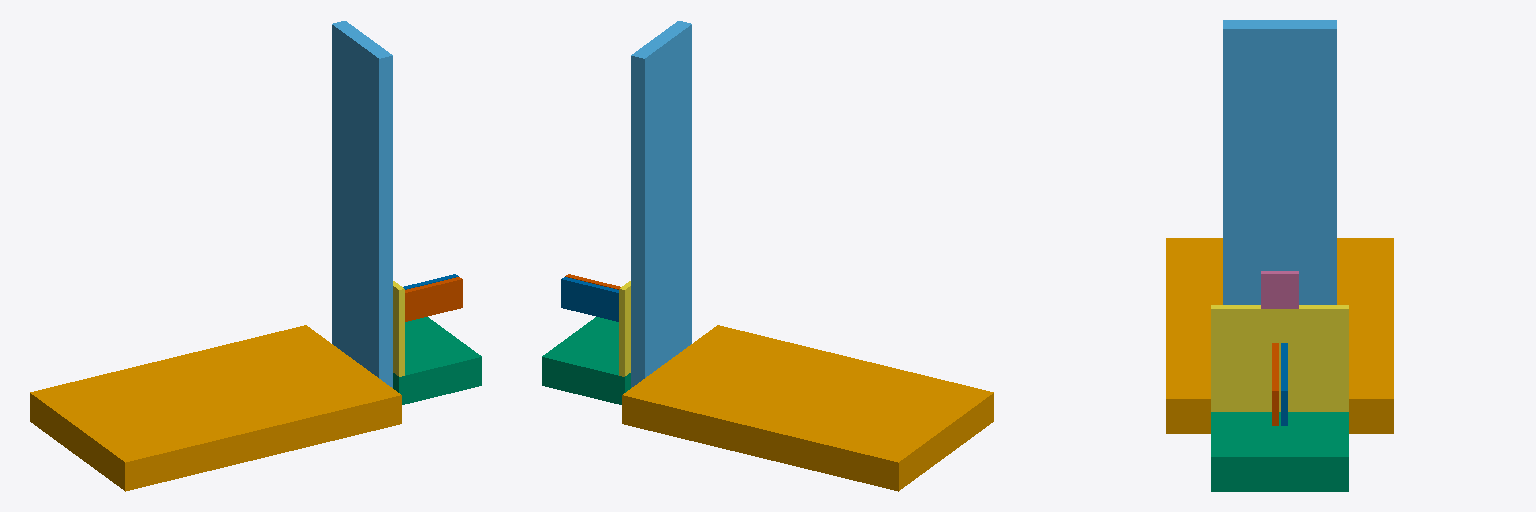
The robot description file, URDF, robot "lib_bot":
<?xml version="1.0"?>

<robot name="lib_bot">
    <gazebo>
        <plugin name="gazebo_ros_control" filename="libgazebo_ros_control.so">
            <robotNamespace>/lib_bot</robotNamespace>
        </plugin>
    </gazebo>
    
    
    <link 
    name="base_link">
        <visual>
            <origin rpy="0 0 0" xyz="0 0 0"/>
            <geometry>
               <box size="0.5 0.3 0.05"/> 
            </geometry>
        </visual>
        <collision>
            <origin xyz="0 0 0" rpy="0 0 0"/>
            <geometry>
               <box size="0.5 0.3 0.05"/> 
            </geometry>
        </collision>
        <inertial>
            <origin xyz="0 0 0" rpy="0 0 0"/>
            <mass value="18" />
            <inertia ixx="0.13874999999999998" ixy="0.0" ixz="0.0" iyy="0.37875000000000003" iyz="0.0" izz="0.51"/>
        </inertial>
    </link>
    
    <link name="tower_link">
        <visual>
            <origin rpy="0 0 0" xyz="0 0 0.275"/>
            <geometry>
                <box size="0.025 0.15 0.60"/> 
            </geometry>
        </visual>
        <collision>
            <origin xyz="0 0 0.275" rpy="0 0 0"/>
            <geometry>
                 <box size="0.025 0.15 0.60"/> 
            </geometry>
        </collision>
        <inertial>
            <origin xyz="0 0 0.275" rpy="0 0 0"/>
            <mass value="10" />
            <inertia ixx="0.31875000000000003" ixy="0.0" ixz="0.0" iyy="0.300520833333" iyz="0.0" izz="0.0192708333333"/>
        </inertial>
    </link>
    
    <link name="elevtor_link">
        <visual>
            <origin rpy="0 0 0" xyz="0 0 0"/>
            <geometry>
                <box size="0.15 0.18 0.05"/> 
            </geometry>
        </visual>
        <collision>
            <origin xyz="0 0 0" rpy="0 0 0"/>
            <geometry>
                <box size="0.15 0.18 0.05"/> 
            </geometry>
        </collision>
        <inertial>
            <origin xyz="0 0 0" rpy="0 0 0"/>
            <mass value="0.5" />
            <inertia ixx="0.0014541666666666665" ixy="0.0" ixz="0.0" iyy="0.0010416666666666667" iyz="0.0" izz="0.0022874999999999996"/>
        </inertial>
    </link>
    
    <link name="push_link">
        <visual>
            <origin rpy="0 0 0" xyz="0 0 0"/>
            <geometry>
                <box size="0.01 0.18 0.15"/> 
            </geometry>
        </visual>
        <collision>
            <origin xyz="0 0 0" rpy="0 0 0"/>
            <geometry>
                 <box size="0.01 0.18 0.15"/> 
            </geometry>
        </collision>
        <inertial>
            <origin xyz="0 0 0" rpy="0 0 0"/>
            <mass value="0.05" />
            <inertia ixx="0.0013724999999999998" ixy="0.0" ixz="0.0" iyy="0.0006025" iyz="0.0" izz="0.0008499999999999998"/>
        </inertial>
    </link>
    
    <link name="jaw_1_link">
        <visual>
            <origin rpy="0 0 0" xyz="0 0 0"/>
            <geometry>
                <box size="0.15 0.01 0.05"/> 
            </geometry>
        </visual>
        <collision>
            <origin xyz="0 0 0" rpy="0 0 0"/>
            <geometry>
                 <box size="0.15 0.01 0.05"/> 
            </geometry>
        </collision>
        <inertial>
            <origin xyz="0 0 0" rpy="0 0 0"/>
            <mass value="0.05" />
            <inertia ixx="0.0013724999999999998" ixy="0.0" ixz="0.0" iyy="0.0006025" iyz="0.0" izz="0.0008499999999999998"/>
        </inertial>
    </link>
    
    <link name="jaw_2_link">
        <visual>
            <origin rpy="0 0 0" xyz="0 0 0"/>
            <geometry>
                <box size="0.15 0.01 0.05"/> 
            </geometry>
        </visual>
        <collision>
            <origin xyz="0 0 0" rpy="0 0 0"/>
            <geometry>
                <box size="0.15 0.01 0.05"/> 
            </geometry>
        </collision>
        <inertial>
            <origin xyz="0 0 0" rpy="0 0 0"/>
            <mass value="0.05" />
            <inertia ixx="0.0013724999999999998" ixy="0.0" ixz="0.0" iyy="0.0006025" iyz="0.0" izz="0.0008499999999999998"/>
        </inertial>
    </link>
    
    <link name="camera">


    <visual>
      <origin xyz="0 0 0" rpy="0 0 0"/>
      <geometry>
        <box size="0.01 0.05 0.05"/>
      </geometry>
    </visual>
    <collision>
      <origin xyz="0 0 0" rpy="0 0 0"/>
      <geometry>
        <box size="0.05 0.05 0.05"/>
      </geometry>
    </collision>
    <inertial>
            <origin xyz="0 0 0" rpy="0 0 0" />
            <mass value="0.05" />
            <inertia ixx="4.166666666666667e-05" ixy="0.0" ixz="0.0" iyy="2.166666666666667e-05" iyz="0.0" izz="2.166666666666667e-05" />
        </inertial>


  </link>
    
   <!-- JOINTS --> 
    
  <joint name="base_link_tower_link_joint" type="fixed">
    <origin xyz="0.265 0 0" rpy="0 0 0"/>
    <parent link="base_link"/>
    <child link="tower_link"/>
 </joint>
    

  <joint name="tower_link_elevtor_link_joint" type="prismatic">
    <axis xyz="0 0 1"/>
    <parent link="tower_link"/>
    <child link="elevtor_link"/>
    <limit effort="1000.0" lower="0" upper="0.55" velocity="0.2"/>
    <origin rpy="0 0 0" xyz="0.090 0 0"/>
  </joint>
  
  <joint name="elevtor_link_push_link_joint" type="prismatic">
    <axis xyz="1 0 0"/>
    <parent link="elevtor_link"/>
    <child link="push_link"/>
    <limit effort="1000.0" lower="0" upper="0.14" velocity="0.2"/>
    <origin rpy="0 0 0" xyz="-0.070 0 0.1"/>
  </joint>
  
  <joint name="push_link_jaw_1_joint" type="prismatic">
    <axis xyz="0 1 0"/>
    <parent link="push_link"/>
    <child link="jaw_1_link"/>
    <limit effort="1000.0" lower="0" upper="0.075" velocity="0.2"/>
    <origin rpy="0 0 0" xyz="0.080 0.006 0"/>
  </joint>
  
  <joint name="push_link_jaw_2_joint" type="prismatic">
    <axis xyz="0 1 0"/>
    <parent link="push_link"/>
    <child link="jaw_2_link"/>
    <limit effort="1000.0" lower="-0.075" upper="0" velocity="0.2"/>
    <origin rpy="0 0 0" xyz="0.080 -0.006 0"/>
  </joint>
  <joint name="camera_joint" type="fixed">
        <axis xyz="0 1 0" />
        <origin xyz="0 0 0.1" rpy="0 0 0"/>
        <parent link="push_link"/>
        <child link="camera"/>
    </joint>
  <!-- TRANSMISSIONS-->
  
  
  <transmission name="tran1">
    <type>transmission_interface/SimpleTransmission</type>
    <joint name="tower_link_elevtor_link_joint">
      <!--hardwareInterface>EffortJointInterface</hardwareInterface-->
      <hardwareInterface>hardware_interface/PositionJointInterface</hardwareInterface>
    </joint>
    <actuator name="motor1">
      <!--hardwareInterface>EffortJointInterface</hardwareInterface-->
      <hardwareInterface>hardware_interface/PositionJointInterface</hardwareInterface>
      <mechanicalReduction>1</mechanicalReduction>
    </actuator>
  </transmission>
  
  <transmission name="tran2">
    <type>transmission_interface/SimpleTransmission</type>
    <joint name="elevtor_link_push_link_joint">
      <!--hardwareInterface>EffortJointInterface</hardwareInterface-->
      <hardwareInterface>hardware_interface/PositionJointInterface</hardwareInterface>
    </joint>
    <actuator name="motor2">
      <!--hardwareInterface>EffortJointInterface</hardwareInterface-->
      <hardwareInterface>hardware_interface/PositionJointInterface</hardwareInterface>
      <mechanicalReduction>1</mechanicalReduction>
    </actuator>
  </transmission>
  
  <transmission name="tran3">
    <type>transmission_interface/SimpleTransmission</type>
    <joint name="push_link_jaw_1_joint">
      <!--hardwareInterface>EffortJointInterface</hardwareInterface-->
      <hardwareInterface>hardware_interface/PositionJointInterface</hardwareInterface>
    </joint>
    <actuator name="motor3">
      <!--hardwareInterface>EffortJointInterface</hardwareInterface-->
      <hardwareInterface>hardware_interface/PositionJointInterface</hardwareInterface>
      <mechanicalReduction>1</mechanicalReduction>
    </actuator>
  </transmission>
  
  <transmission name="tran4">
    <type>transmission_interface/SimpleTransmission</type>
    <joint name="push_link_jaw_2_joint">
      <!--hardwareInterface>EffortJointInterface</hardwareInterface-->
      <hardwareInterface>hardware_interface/PositionJointInterface</hardwareInterface>
    </joint>
    <actuator name="motor4">
      <!--hardwareInterface>EffortJointInterface</hardwareInterface-->
      <hardwareInterface>hardware_interface/PositionJointInterface</hardwareInterface>
      <mechanicalReduction>1</mechanicalReduction>
    </actuator>
  </transmission>
  
 <gazebo reference="camera">
    <sensor type="camera" name="camera1">
      <update_rate>30.0</update_rate>
      <camera name="head">
        <horizontal_fov>1.3962634</horizontal_fov>
        <image>
          <width>800</width>
          <height>800</height>
          <format>R8G8B8</format>
        </image>
        <clip>
          <near>0.02</near>
          <far>300</far>
        </clip>
      </camera>
      <plugin name="camera_controller" filename="libgazebo_ros_camera.so">
        <alwaysOn>true</alwaysOn>
        <updateRate>0.0</updateRate>
        <cameraName>mybot/camera1</cameraName>
        <imageTopicName>image_raw</imageTopicName>
        <cameraInfoTopicName>camera_info</cameraInfoTopicName>
        <frameName>camera</frameName>
        <hackBaseline>0.07</hackBaseline>
        <distortionK1>0.0</distortionK1>
        <distortionK2>0.0</distortionK2>
        <distortionK3>0.0</distortionK3>
        <distortionT1>0.0</distortionT1>
        <distortionT2>0.0</distortionT2>
      </plugin>
    </sensor>
  </gazebo>
</robot>

--- Render facts (derived) ---
3 views of the same robot in one strip: view 1: azimuth 30°, elevation 25°; view 2: azimuth 150°, elevation 25°; view 3: azimuth 270°, elevation 25° (orthographic).
Robot: lib_bot — 7 links, 6 joints (4 prismatic, 2 fixed); root link base_link; default pose: all joints at 0.
Visible links, largest first — view 1: base_link, tower_link, elevtor_link, jaw_2_link, push_link; view 2: base_link, tower_link, elevtor_link, jaw_1_link, push_link; view 3: tower_link, base_link, push_link, elevtor_link, camera, jaw_1_link, jaw_2_link.
Link boxes in pixels (x1,y1,x2,y2): base_link: [30, 325, 401, 491]; tower_link: [332, 21, 392, 387]; elevtor_link: [393, 317, 481, 404]; jaw_2_link: [405, 277, 462, 321]; push_link: [393, 281, 404, 376]; base_link: [622, 325, 993, 491]; tower_link: [631, 21, 691, 387]; elevtor_link: [542, 317, 630, 404]; jaw_1_link: [561, 277, 618, 321]; push_link: [619, 281, 630, 376]; tower_link: [1223, 20, 1336, 304]; base_link: [1166, 238, 1393, 433]; push_link: [1211, 305, 1348, 411]; elevtor_link: [1211, 412, 1348, 491]; camera: [1261, 271, 1298, 308]; jaw_1_link: [1281, 343, 1287, 425]; jaw_2_link: [1272, 343, 1278, 425].
Bounding box of the posed robot: 0.69 × 0.3 × 0.6 m (x, y, z).
Geometry: primitives only (box / cylinder / sphere), no mesh files.